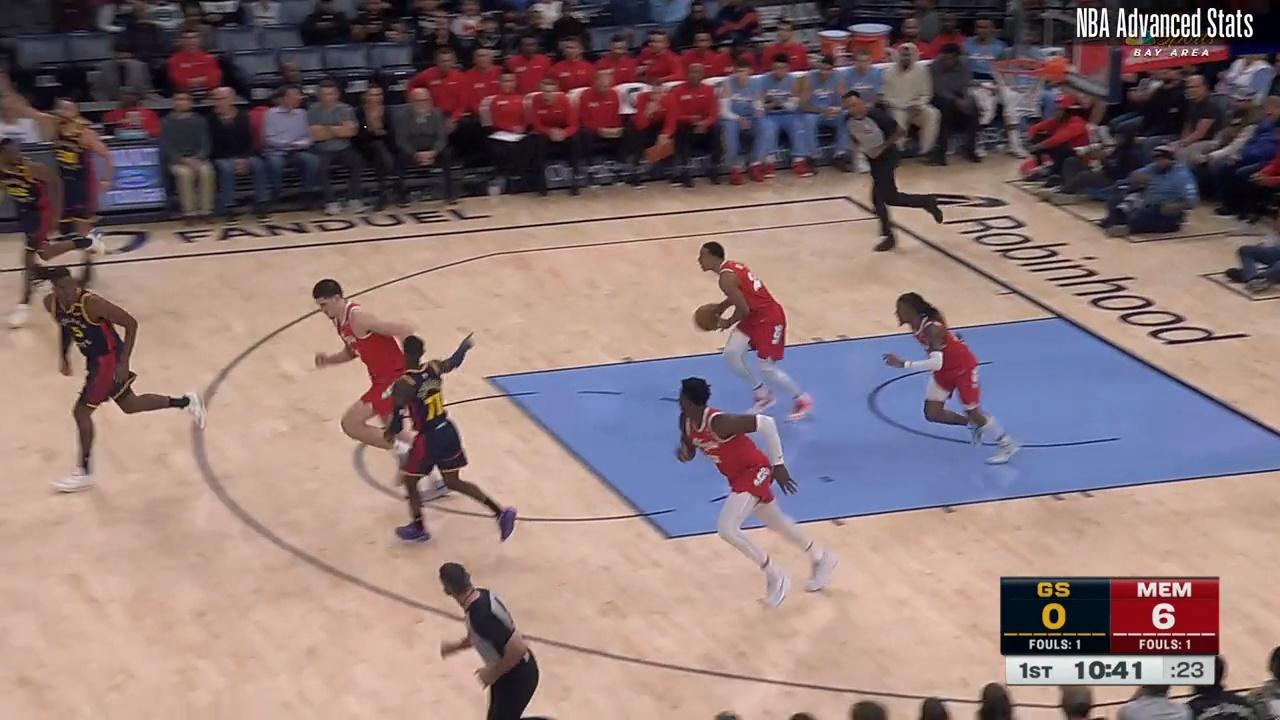basketball: (689, 304, 726, 331)
